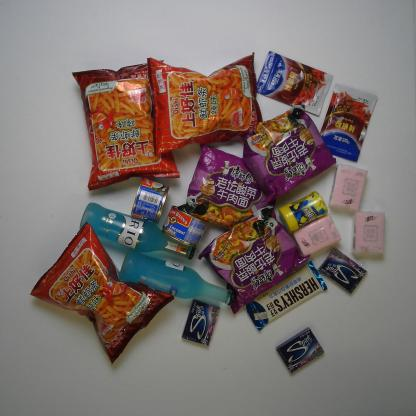Alcohol: (78, 202, 194, 264), (114, 250, 234, 306)
Canned Food: (126, 168, 170, 222), (163, 206, 206, 248)
Chocolate: (246, 258, 328, 329)
Gum: (318, 246, 369, 297), (277, 328, 327, 373), (276, 195, 332, 232), (184, 298, 224, 344)
Instant Noodles: (196, 207, 307, 314), (246, 105, 340, 200), (186, 143, 284, 226)
Puffed Food: (29, 223, 172, 364), (72, 59, 190, 190), (146, 52, 266, 156)
Seasoner: (255, 42, 336, 122), (319, 83, 379, 161)
Tissue: (333, 162, 369, 216), (296, 215, 338, 258), (351, 207, 386, 256)
